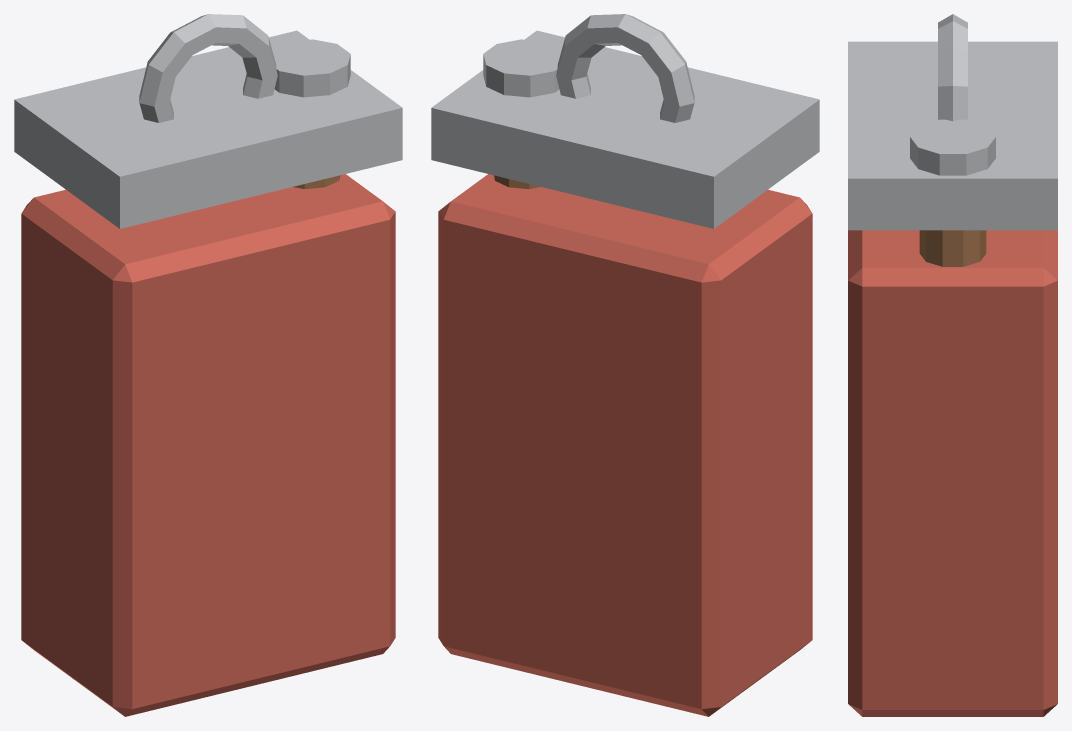
File: LL_Fuel_Canister.fbx
3 renders of one model, left to right at view 1: azimuth 30°, elevation 25°; view 2: azimuth 150°, elevation 25°; view 3: azimuth 270°, elevation 25°, orthographic.
Parts seen in each view (by area): view 1: LL_Canister_Body, LL_Canister_Top, LL_Canister_Handle, LL_Canister_Cap; view 2: LL_Canister_Body, LL_Canister_Top, LL_Canister_Handle, LL_Canister_Cap; view 3: LL_Canister_Body, LL_Canister_Top, LL_Canister_Cap, LL_Canister_Handle, LL_Canister_Spout.
Boxes of the visible parts, x1,y1,x2,y2 form: LL_Canister_Body: [21, 174, 395, 716]; LL_Canister_Top: [14, 30, 402, 228]; LL_Canister_Handle: [139, 14, 277, 122]; LL_Canister_Cap: [272, 39, 350, 97]; LL_Canister_Body: [438, 174, 812, 716]; LL_Canister_Top: [431, 30, 819, 228]; LL_Canister_Handle: [556, 14, 694, 122]; LL_Canister_Cap: [483, 39, 561, 97]; LL_Canister_Body: [848, 230, 1057, 716]; LL_Canister_Top: [848, 41, 1057, 230]; LL_Canister_Cap: [910, 119, 995, 175]; LL_Canister_Handle: [938, 14, 967, 121]; LL_Canister_Spout: [919, 230, 986, 266].
Bounding box in the file's own units: 0.34 × 0.733 × 0.22.
